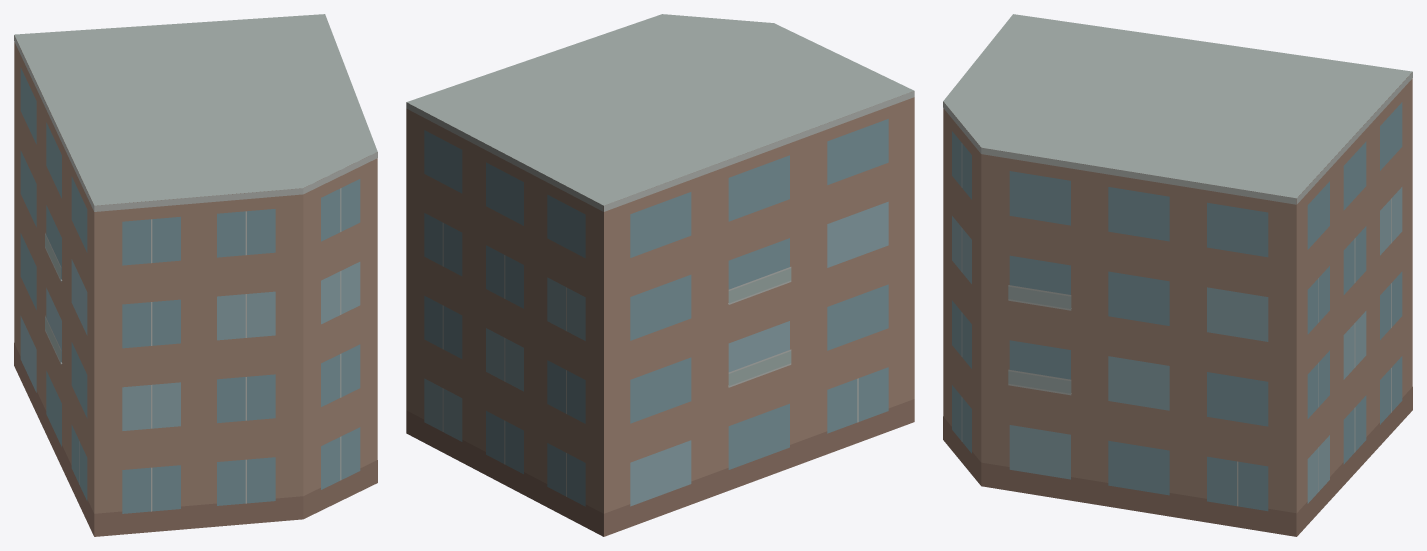
Rendered from survey-upis-32876769.glb.
3 renders of one model, left to right at view 1: azimuth 30°, elevation 25°; view 2: azimuth 150°, elevation 25°; view 3: azimuth 270°, elevation 25°, orthographic. The views are drawn at different scales.
Parts seen in each view (by area): view 1: survey-upis-32876769.tmp; view 2: survey-upis-32876769.tmp; view 3: survey-upis-32876769.tmp.
Boxes of the visible parts, <box> form: survey-upis-32876769.tmp: <box>14,14,377,536</box>; survey-upis-32876769.tmp: <box>406,14,914,536</box>; survey-upis-32876769.tmp: <box>943,14,1412,536</box>.
Bounding box in the file's own units: 14.96 × 12.8 × 16.1.
